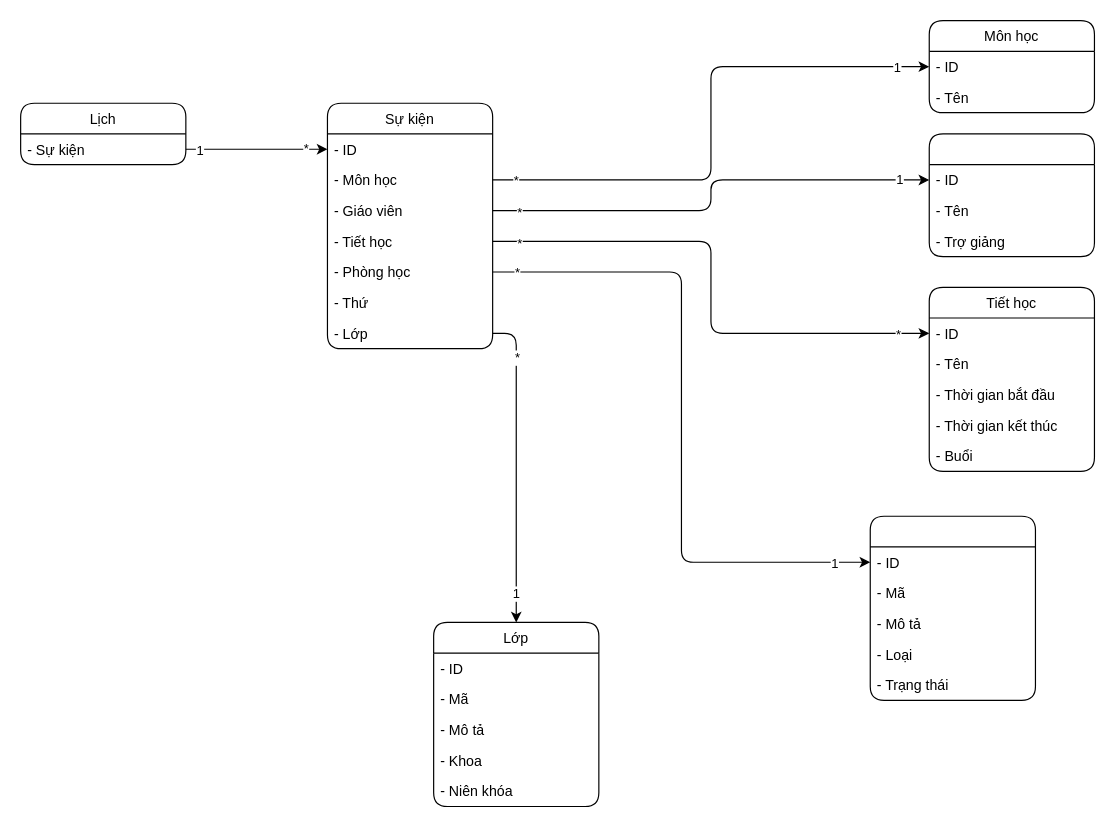
The diagram is 1115 pixels wide and 831 high, and some of its shapes have lost their labels. Here are the shapes that lost their labels. From the top down, the box of each, then its label:
(928, 133, 1094, 257): Giáo viên
(869, 515, 1035, 700): Phòng
